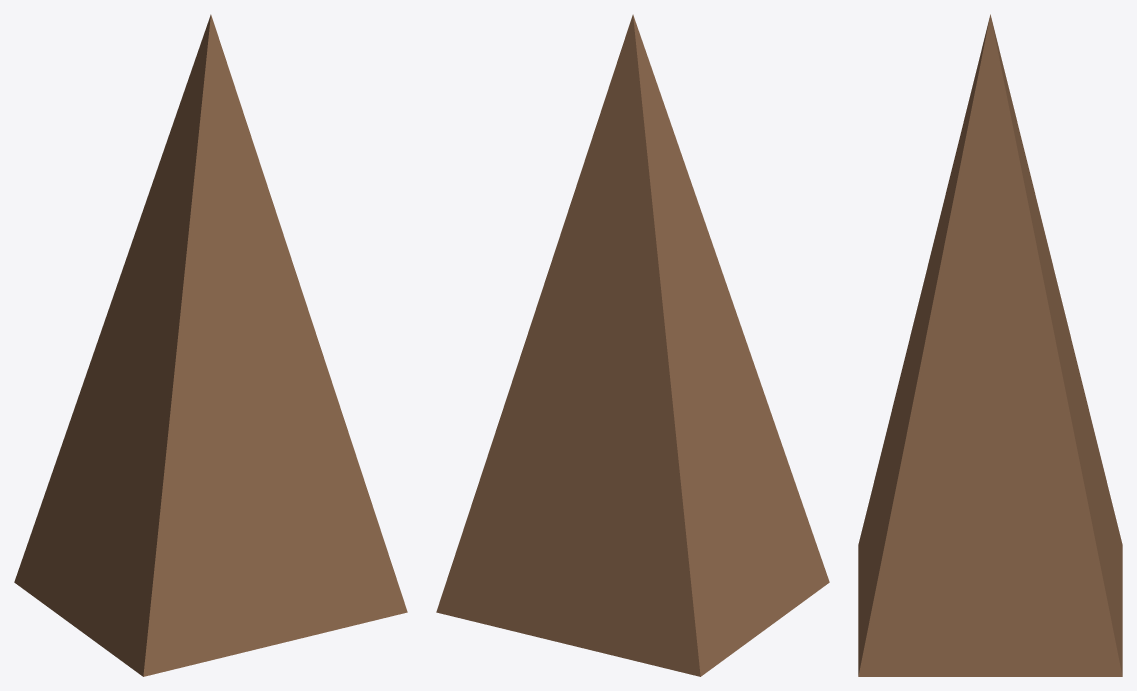
The model's file is Metal_Spike_02.fbx.
The picture shows the model from 3 angles, left to right: view 1: azimuth 30°, elevation 25°; view 2: azimuth 150°, elevation 25°; view 3: azimuth 270°, elevation 25°; orthographic projection. The views are drawn at different scales.
Parts seen in each view (by area): view 1: Metal_Spike_02; view 2: Metal_Spike_02; view 3: Metal_Spike_02.
Boxes of the visible parts, x1=… form: Metal_Spike_02: x1=14, y1=14, x2=407, y2=676; Metal_Spike_02: x1=436, y1=14, x2=829, y2=676; Metal_Spike_02: x1=858, y1=14, x2=1122, y2=676.
Size of the model in its own units: 18.77 by 39.57 by 15.88.
